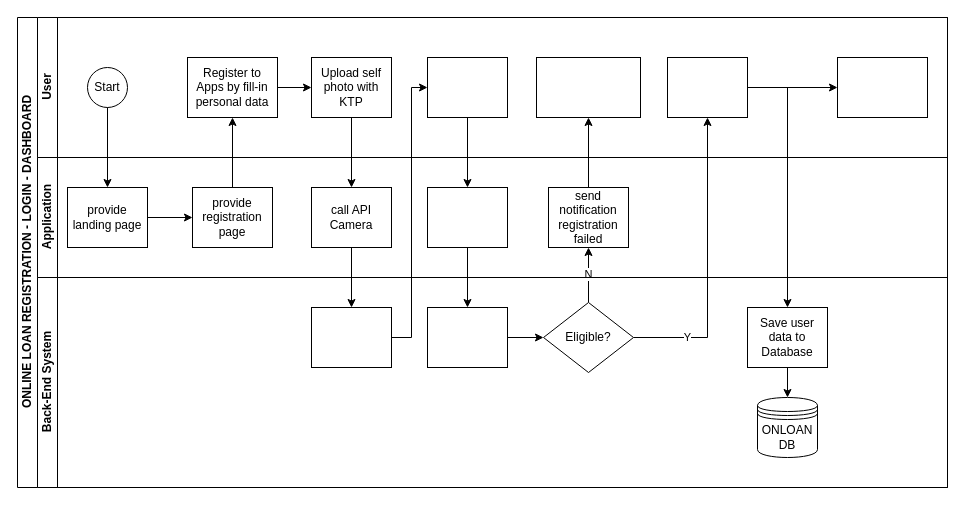
Image size: 965x505. Some labels were removed from this diagram. The shapes that lost their labels are listed below. From the top down, each one's box as (x1, y1, x2, y2) in pixels, then its label:
(426, 56, 508, 118): Submit data
(536, 56, 640, 118): Get notification registration failed
(666, 56, 748, 118): set login password
(836, 56, 928, 118): Login to Apps
(426, 186, 508, 248): call API eligible check
(310, 306, 392, 368): run API camera and upload photo
(426, 306, 508, 368): run API eligible check
